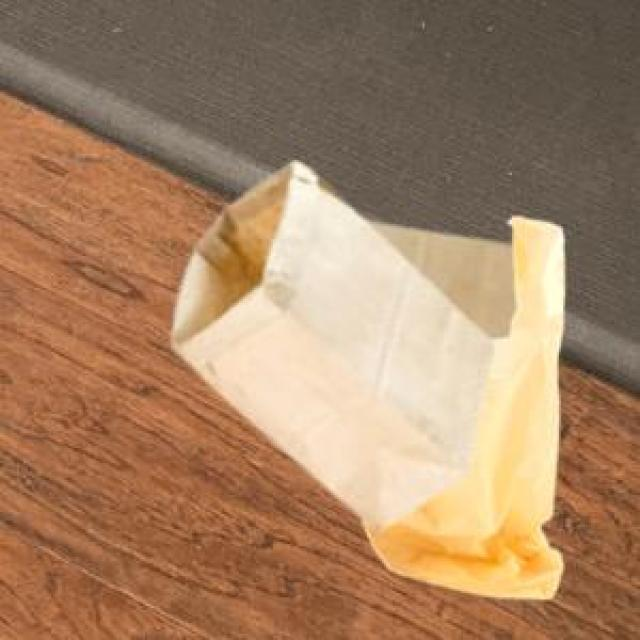paper: (169, 158, 489, 525), (365, 220, 514, 337)
